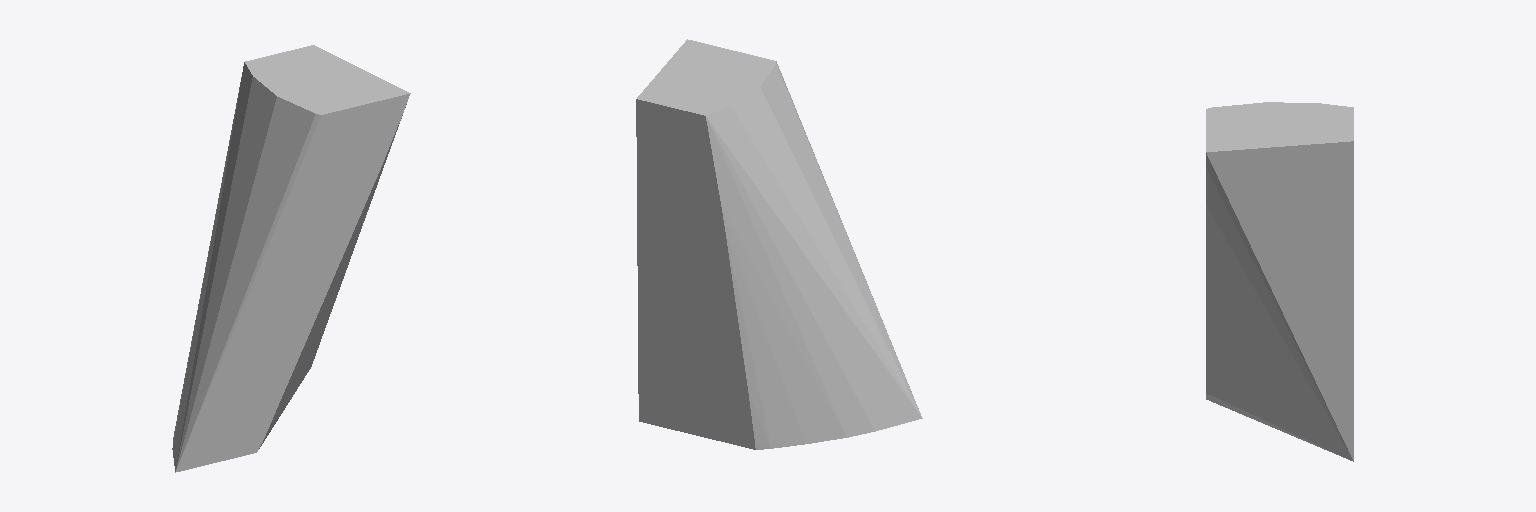
The model's file is phantom-elastrat_collision_548.obj.
3 views of the same model, side by side, from view 1: azimuth 30°, elevation 25°; view 2: azimuth 150°, elevation 25°; view 3: azimuth 270°, elevation 25° (orthographic).
Bounding box in the file's own units: 0.0057 × 0.0075 × 0.0031.